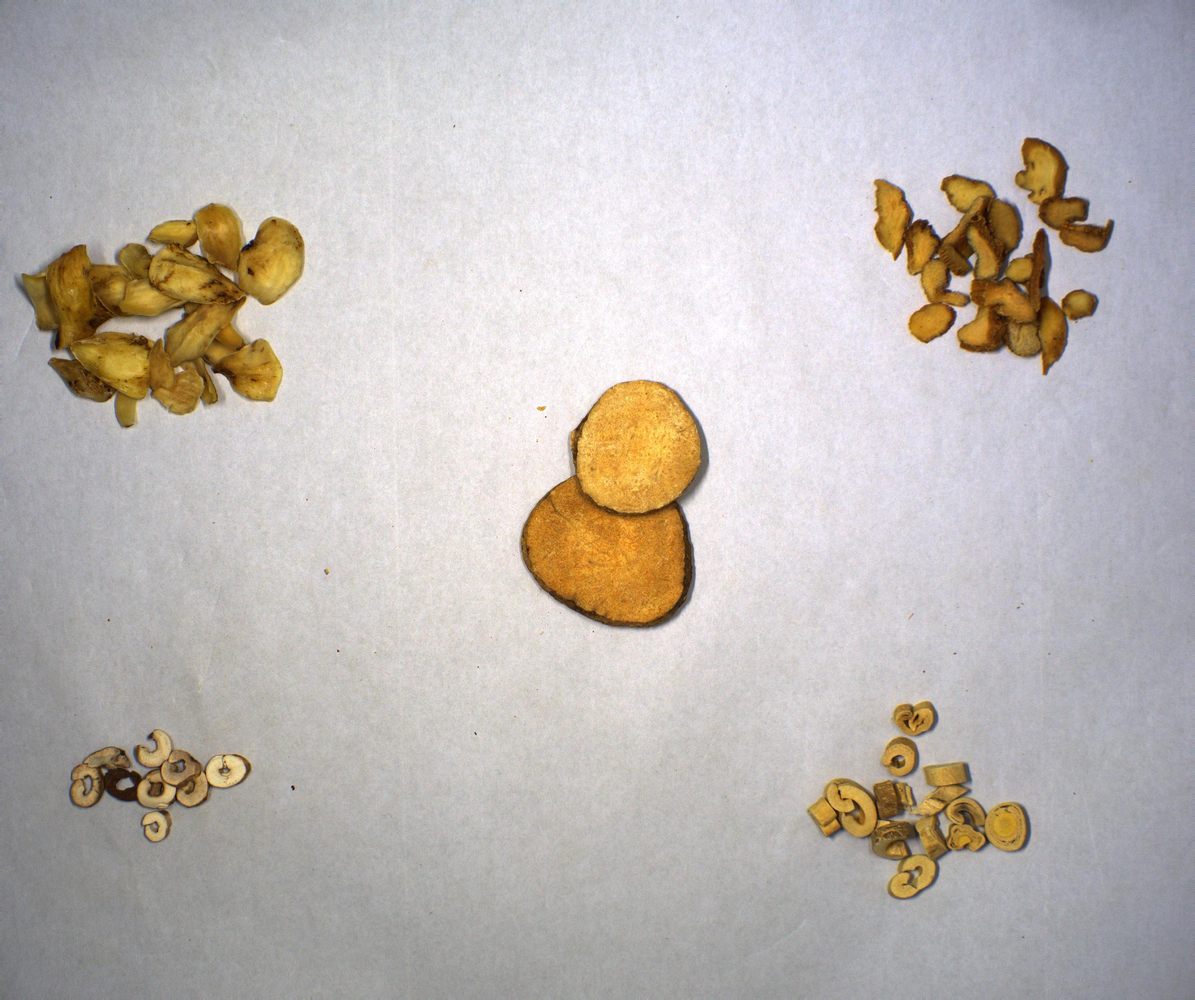baihe: (13, 204, 306, 435)
baixianpi: (806, 699, 1033, 903)
mudanpi: (70, 729, 255, 843)
yuzhu: (872, 137, 1121, 381)
zexie: (520, 379, 710, 631)
